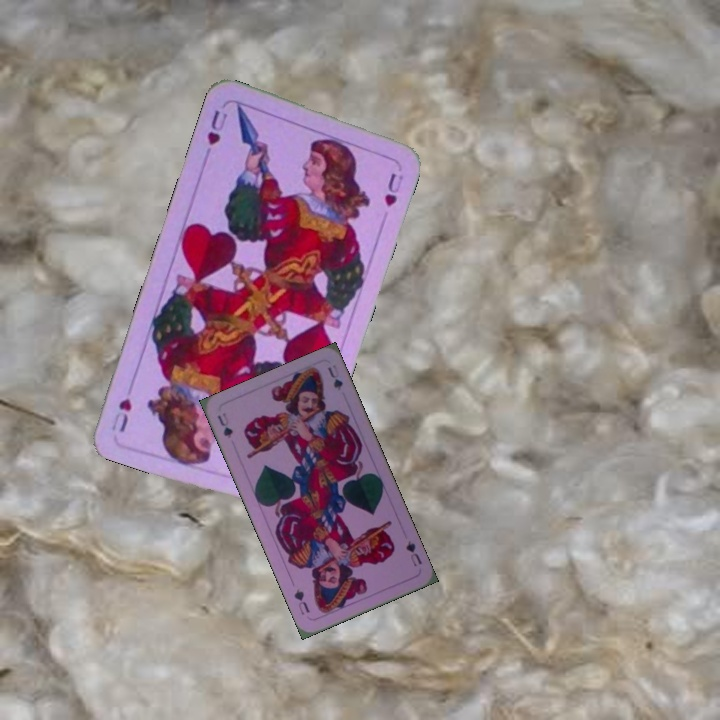GU: (402, 537, 425, 569), (213, 409, 235, 441)
HU: (203, 106, 231, 148)
